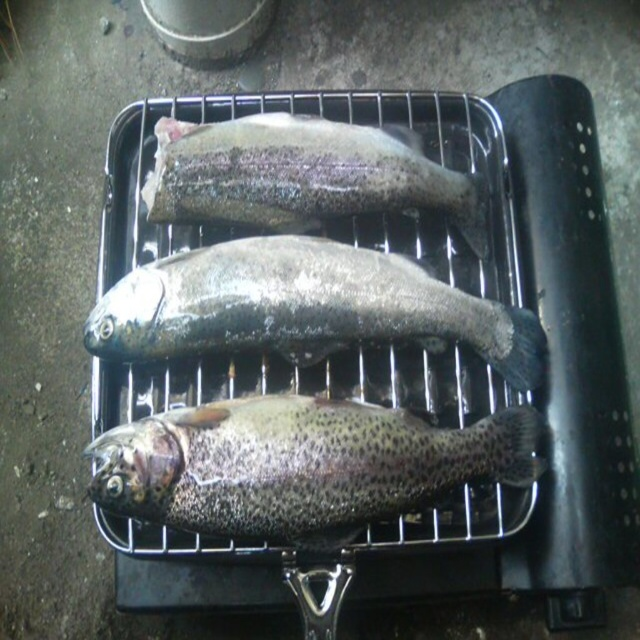Fish: (81, 395, 547, 552), (84, 235, 547, 393), (140, 111, 490, 265)
